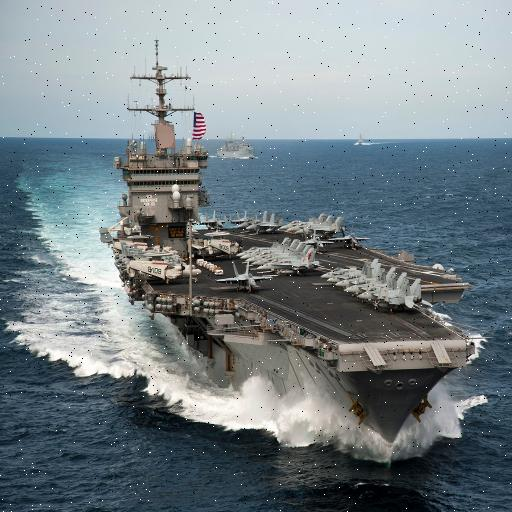Portanaves: (105, 30, 476, 451)
